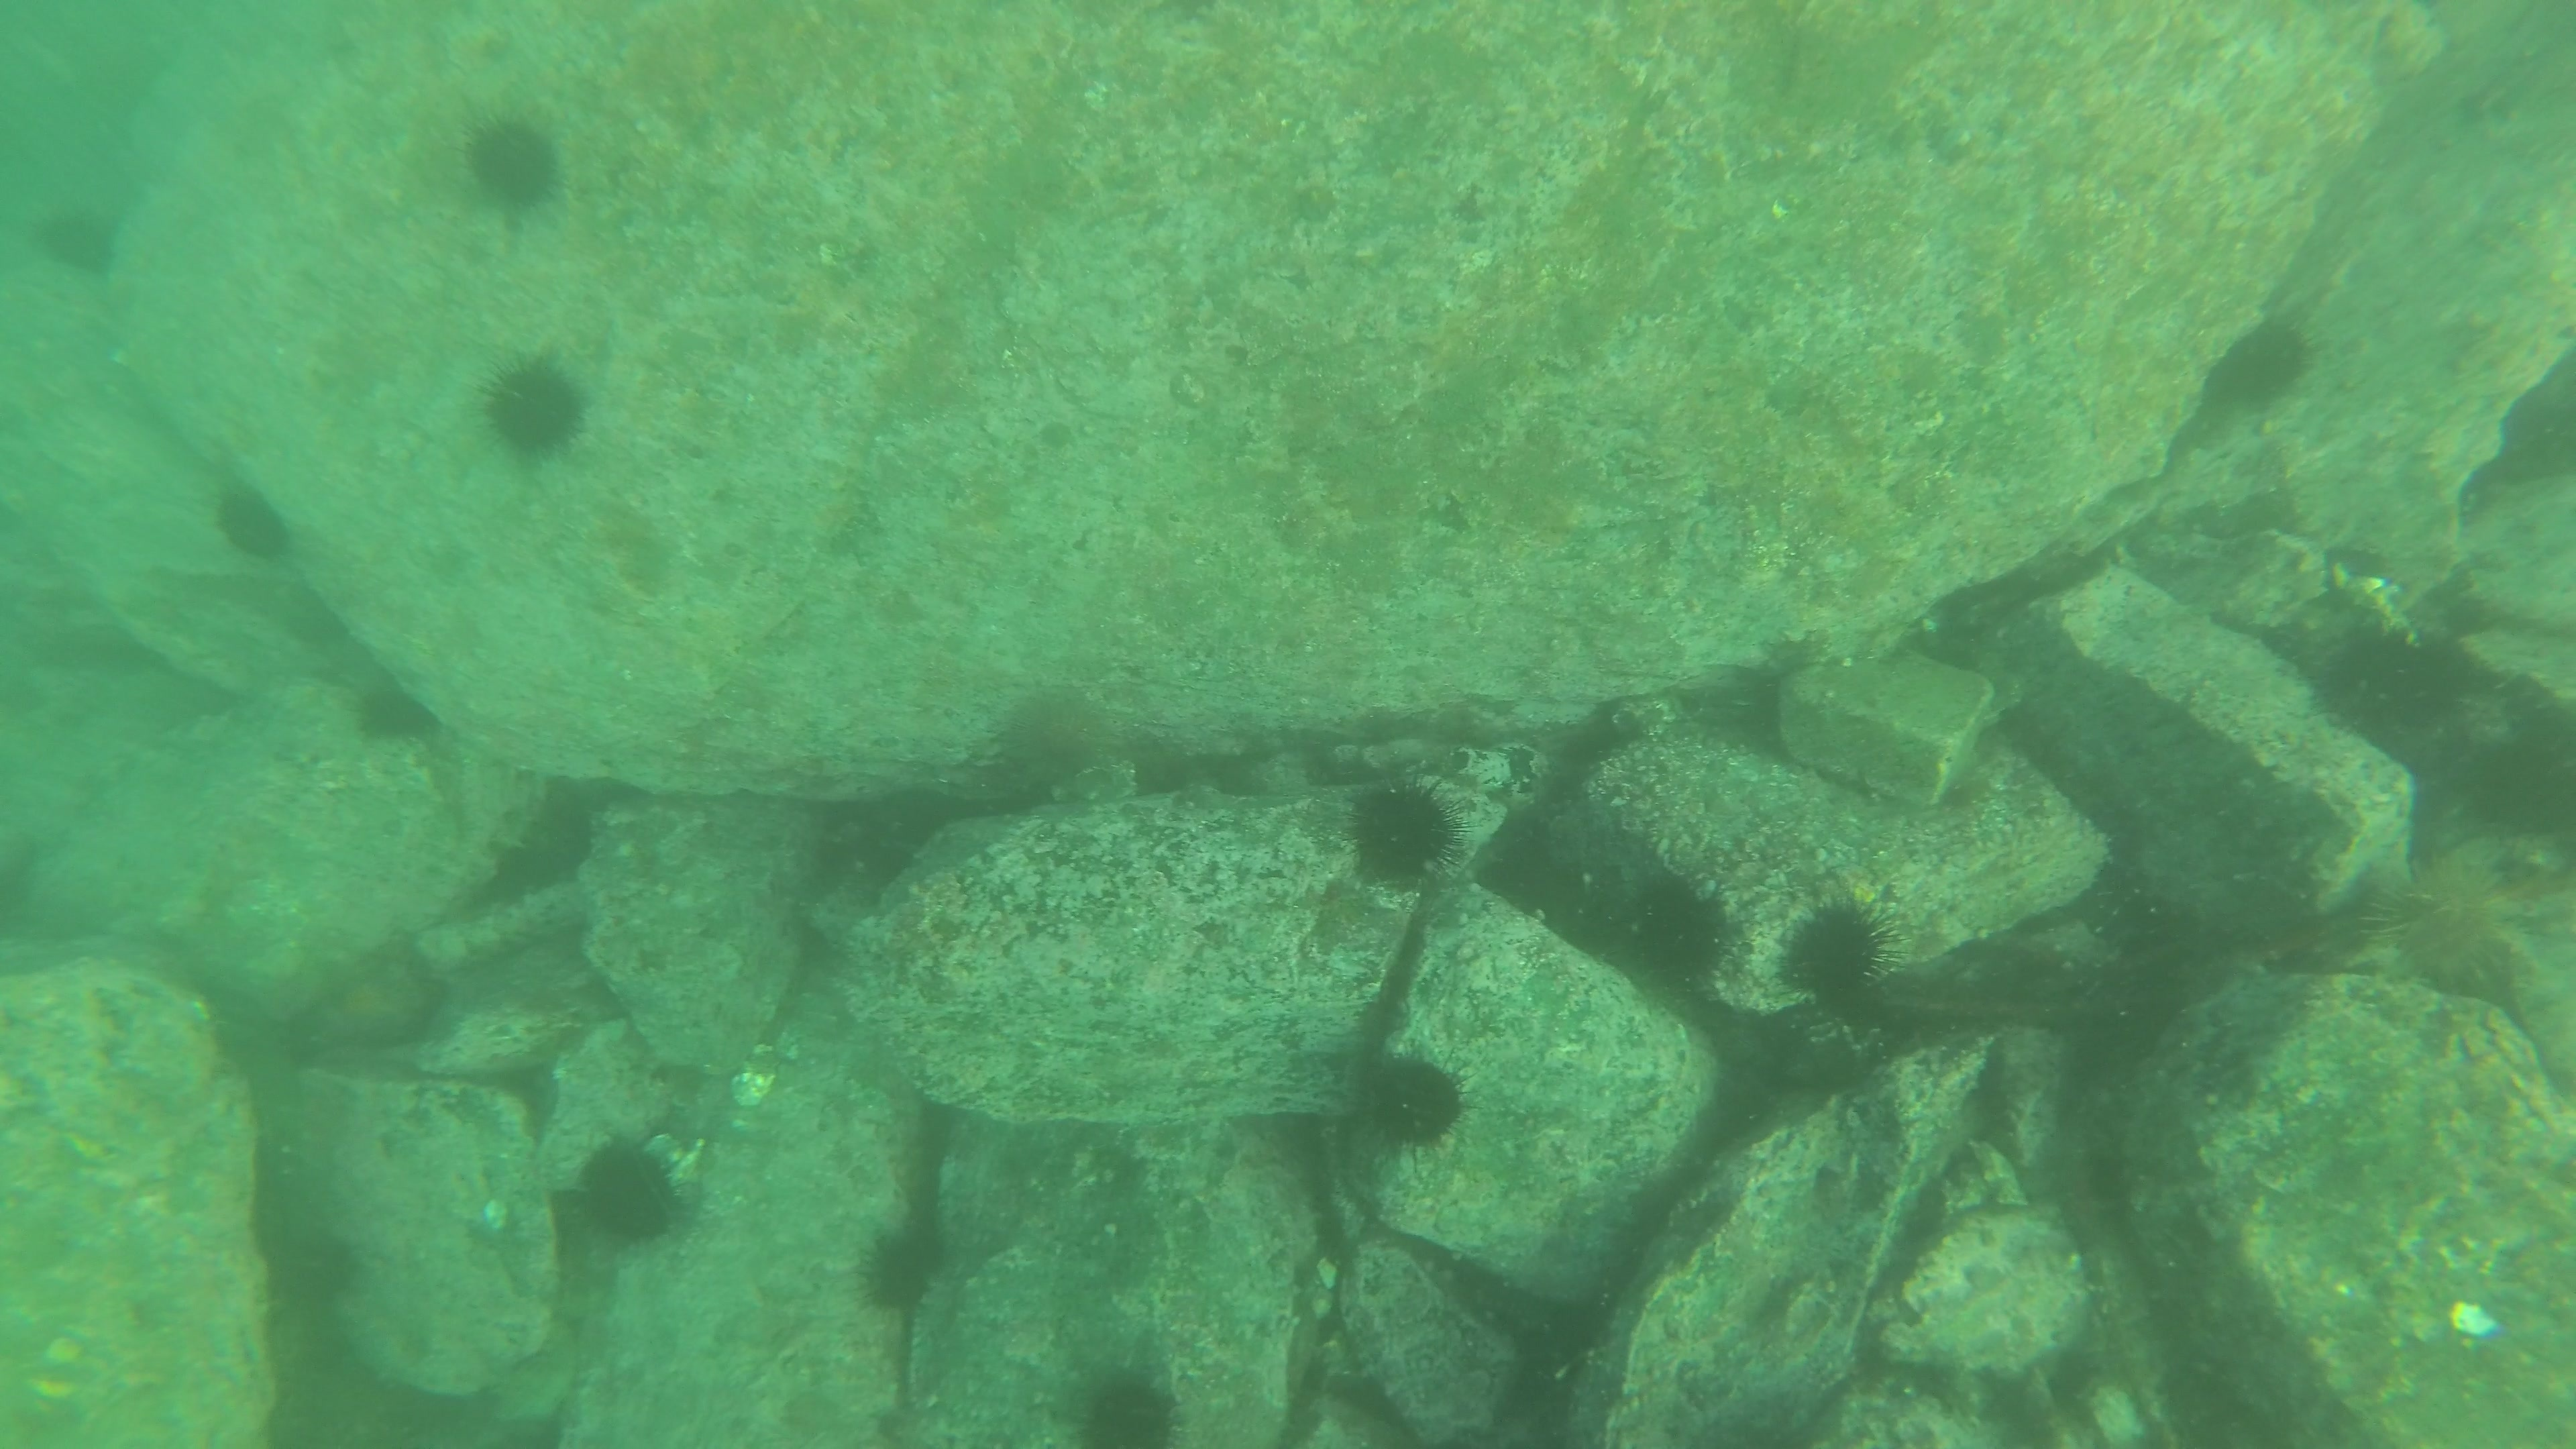echinus: (2371, 847, 2530, 1001), (2312, 621, 2470, 747), (980, 681, 1122, 800), (1776, 892, 1900, 1023), (1615, 867, 1737, 993), (2457, 718, 2574, 849), (568, 1131, 694, 1251), (1339, 771, 1463, 892), (474, 350, 594, 465), (456, 106, 570, 219), (1355, 1047, 1472, 1155), (2204, 311, 2318, 416), (1062, 1359, 1187, 1445), (264, 1219, 368, 1320), (853, 1217, 950, 1320), (207, 476, 299, 566), (30, 196, 126, 283), (345, 672, 442, 750)
starfish: (299, 936, 449, 1060)
